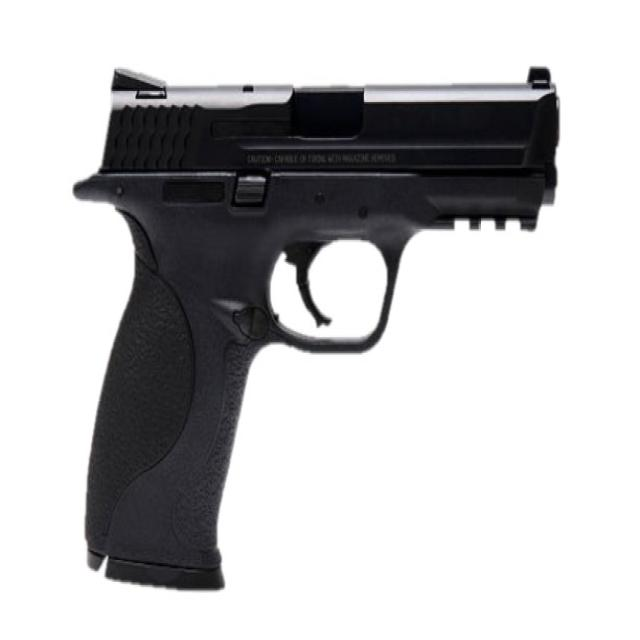pistol: (68, 60, 579, 600)
